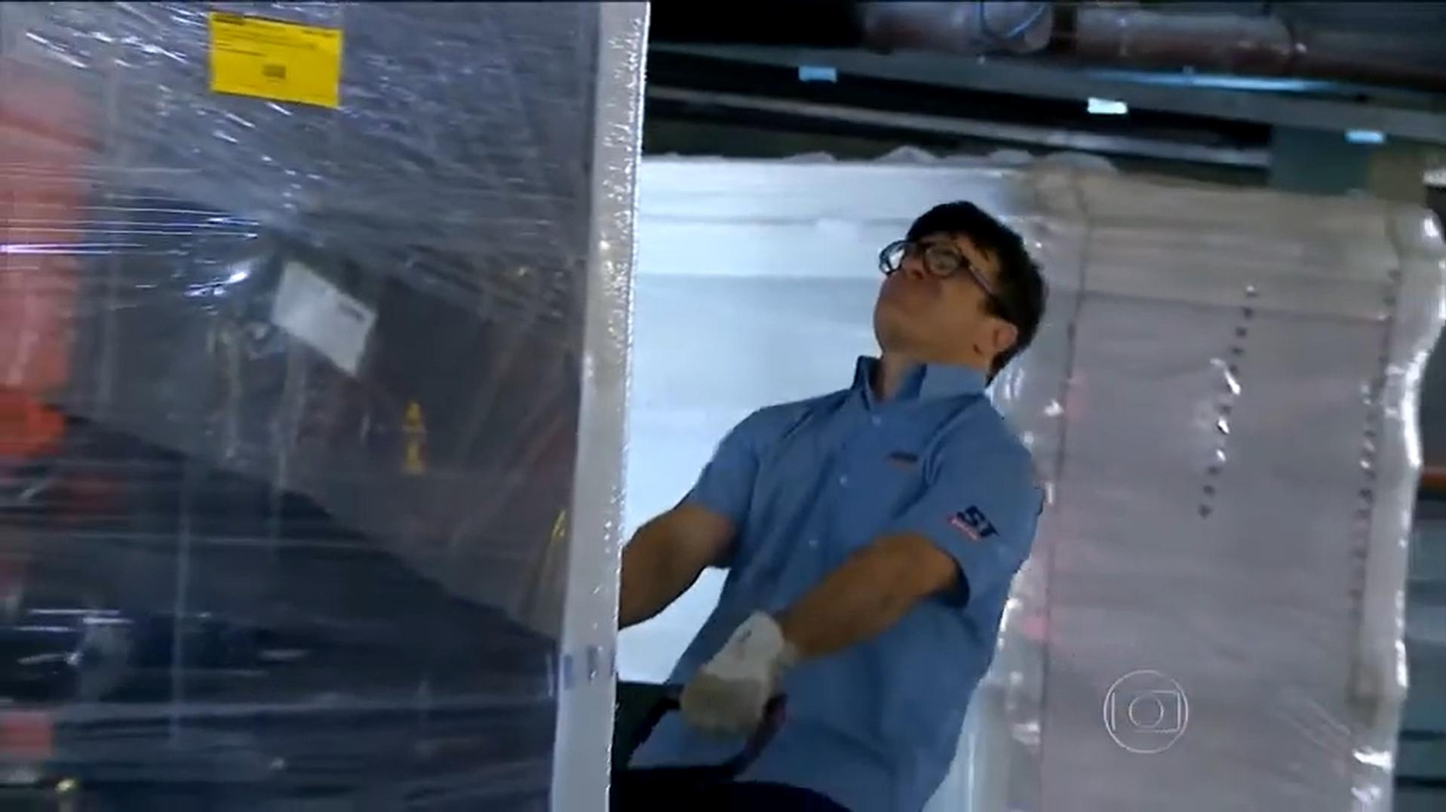gloves: (677, 608, 799, 741)
goggles: (869, 234, 1001, 299)
